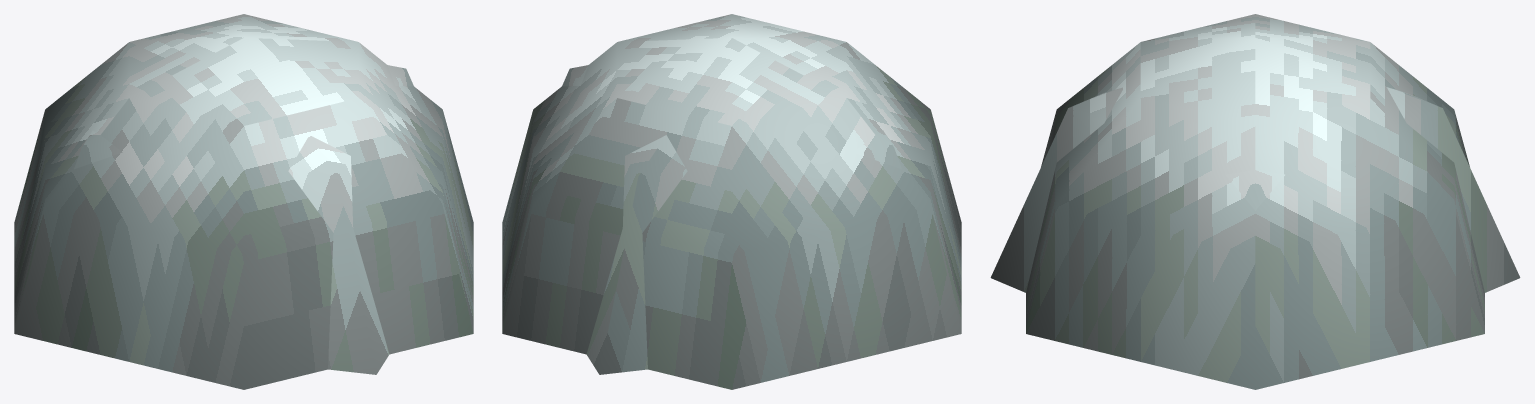
The picture shows the model from 3 angles, left to right: view 1: azimuth 30°, elevation 25°; view 2: azimuth 150°, elevation 25°; view 3: azimuth 270°, elevation 25°; orthographic projection.
Parts seen in each view (by area): view 1: 1362maindish; view 2: 1362maindish; view 3: 1362maindish.
Part boxes in pixels (bbox=[...]): 1362maindish: bbox=[14, 14, 473, 389]; 1362maindish: bbox=[502, 14, 961, 389]; 1362maindish: bbox=[990, 14, 1520, 389].
Size of the model in its own units: 2 by 1 by 2.
2 materials, 2 textured.
